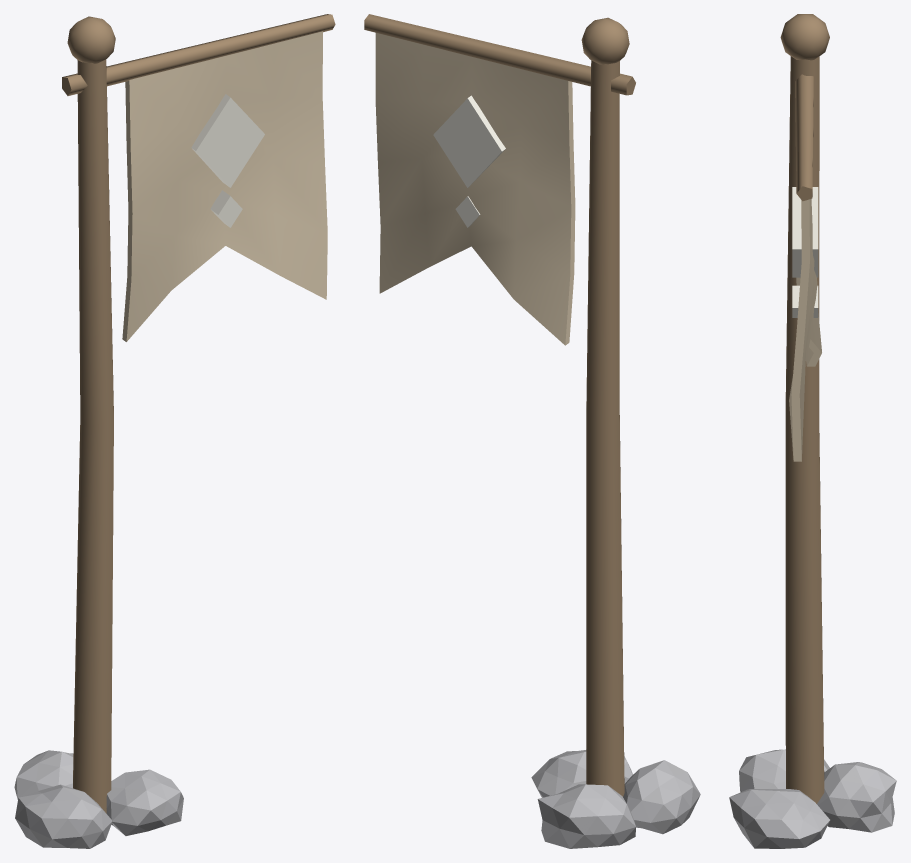
Rendered from building.banner.glb.
The picture shows the model from 3 angles, left to right: view 1: azimuth 30°, elevation 25°; view 2: azimuth 150°, elevation 25°; view 3: azimuth 270°, elevation 25°; orthographic projection.
Parts seen in each view (by area): view 1: Paint, Wood, Stone, Bone; view 2: Paint, Wood, Stone, Bone; view 3: Wood, Stone, Paint, Bone.
Boxes of the visible parts, x1,y1,x2,y2 form: Paint: (122,31,327,341); Wood: (62,14,335,813); Stone: (14,750,183,848); Bone: (191,94,264,227); Paint: (375,33,575,345); Wood: (364,14,635,796); Stone: (531,750,700,848); Bone: (433,95,505,227); Wood: (780,14,829,803); Stone: (729,749,896,848); Paint: (789,199,821,461); Bone: (792,187,818,317).
Size of the model in its own units: 0.6153 by 1.5 by 0.2841.
